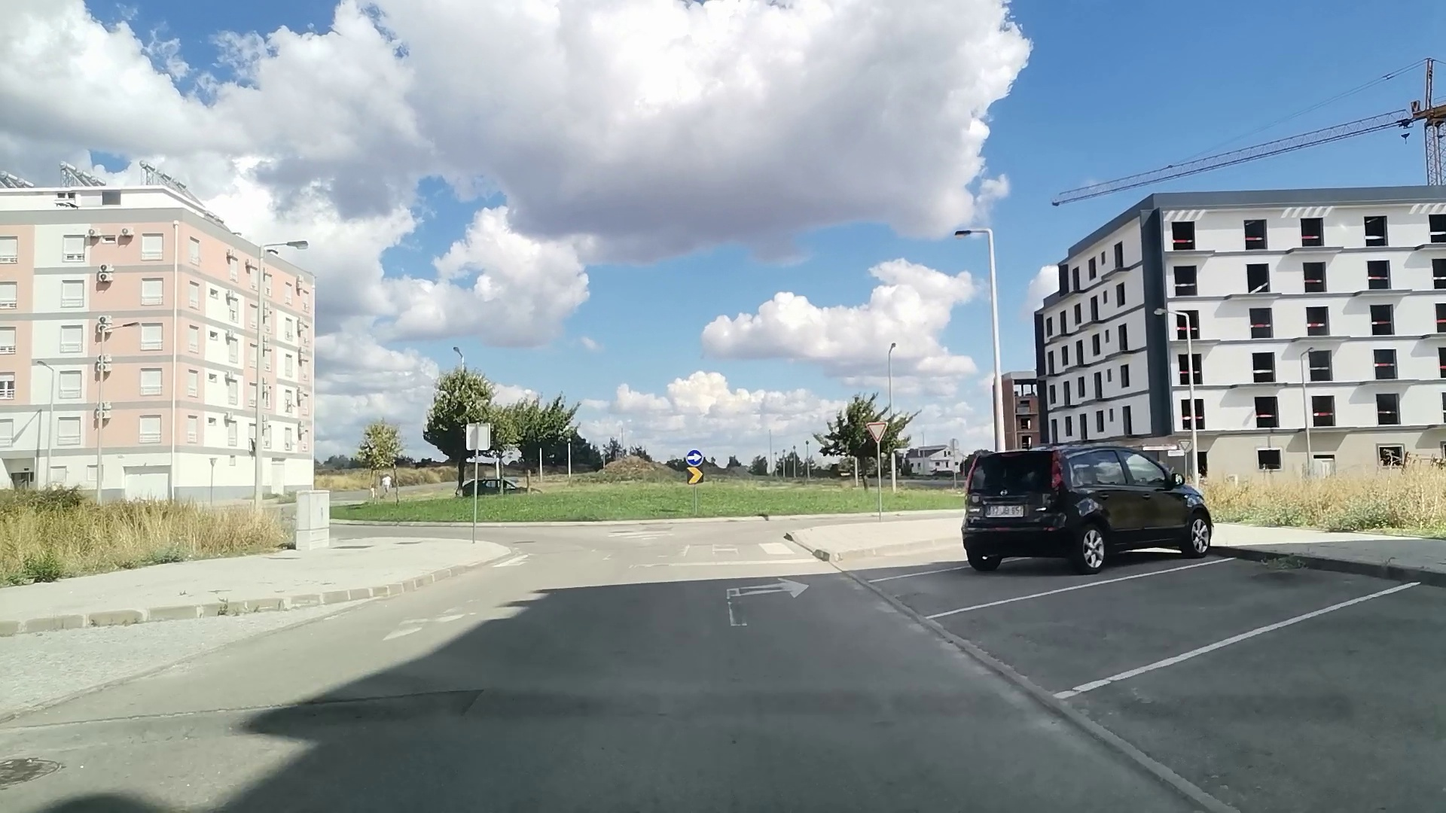Stairs: (488, 541, 800, 570)
